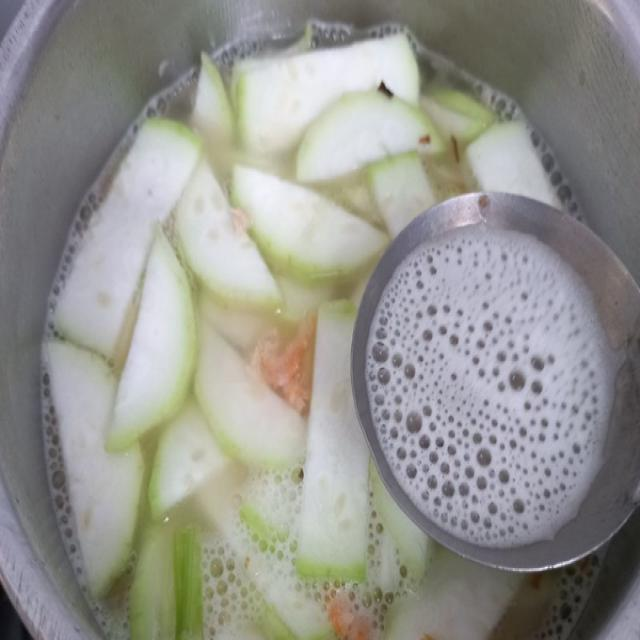canh bau: (45, 27, 554, 639)
